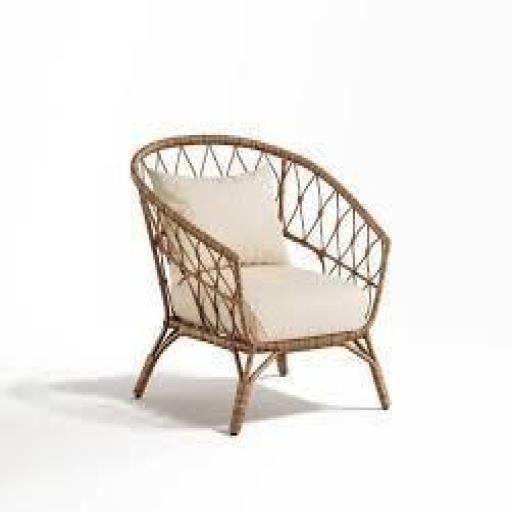chair: (121, 123, 407, 442)
